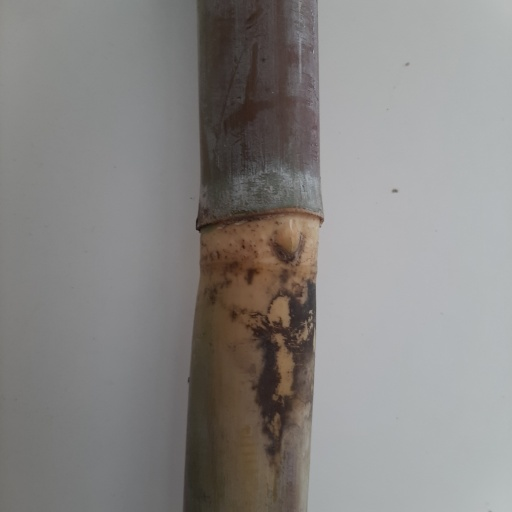Bud: (274, 215, 305, 259)
